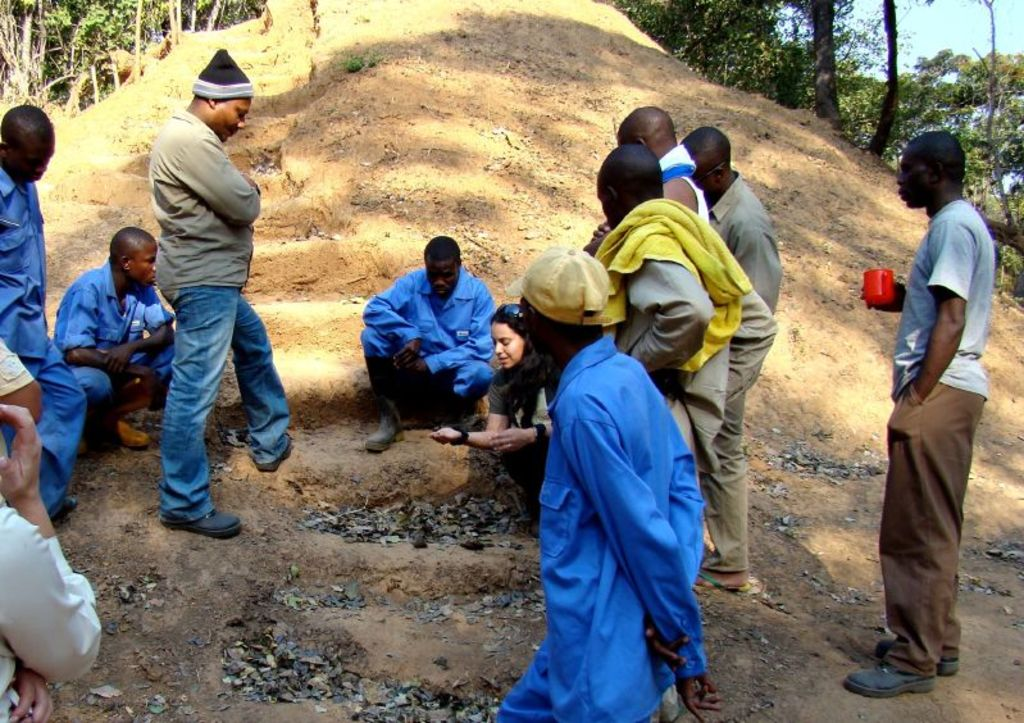Tree: (858, 38, 1022, 253), (0, 0, 261, 124), (611, 0, 792, 106), (743, 0, 854, 116), (857, 0, 925, 178)
